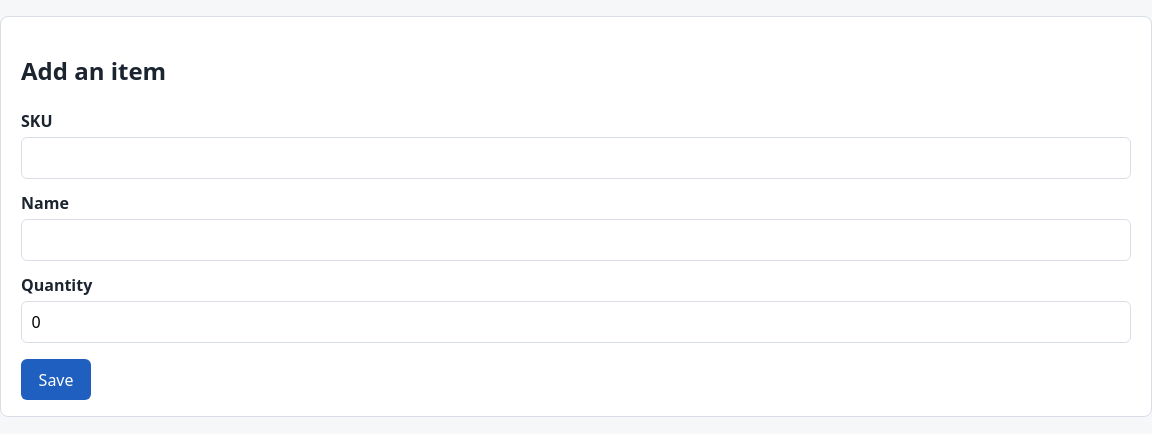
Test: ItemForm › saves cleaned values and clears the form after a successful save
The width and height of the screenshot is (1152, 434).
Type "  A-1 " into the field labelled "SKU".
click(576, 158); type("  A-1 ")  # box [21,137,1131,179]
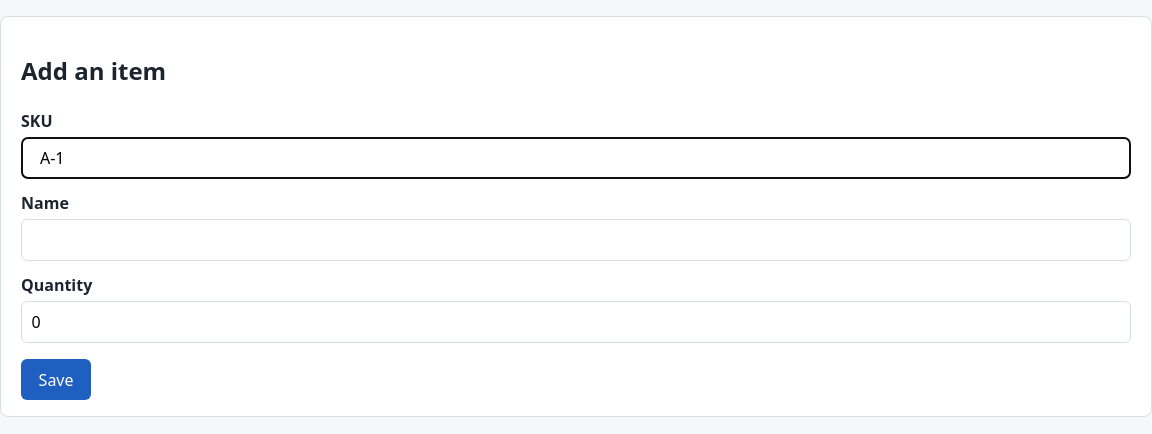
Type " Alpha " into the field labelled "Name".
click(576, 240); type(" Alpha ")  # box [21,219,1131,261]
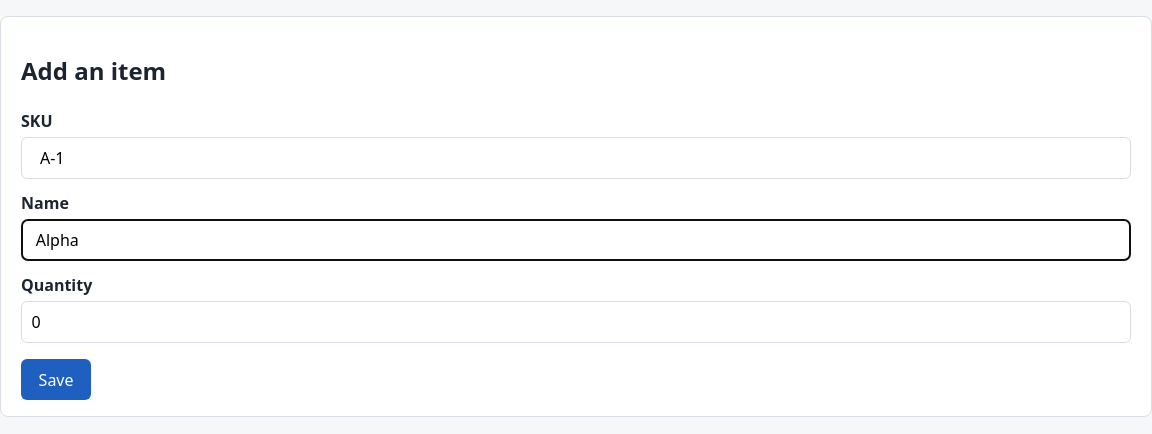
Replace the text in the field labelled "Quantity" with "5" at (576, 322), box [21,301,1131,343]
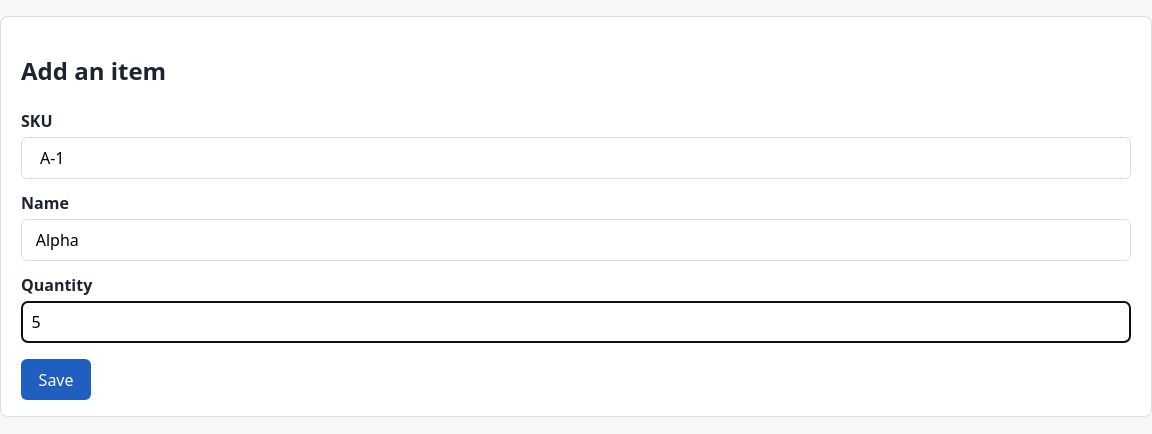
Click the button "Save".
click(56, 380)  # box [21,359,91,400]
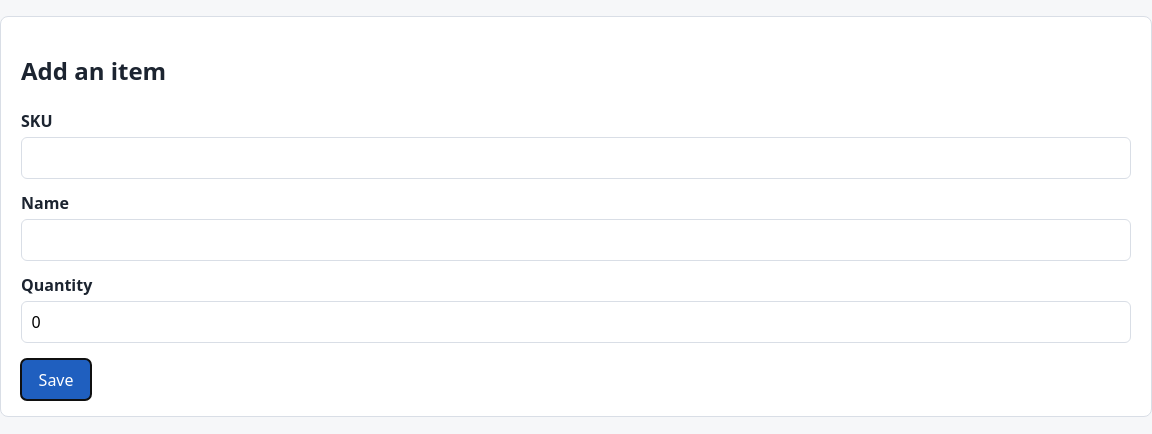
Expected: the field labelled "SKU" is empty, [21,137,1131,179]
Expected: the field labelled "Name" is empty, [21,219,1131,261]
Expected: the field labelled "Quantity" holds "0", [21,301,1131,343]
